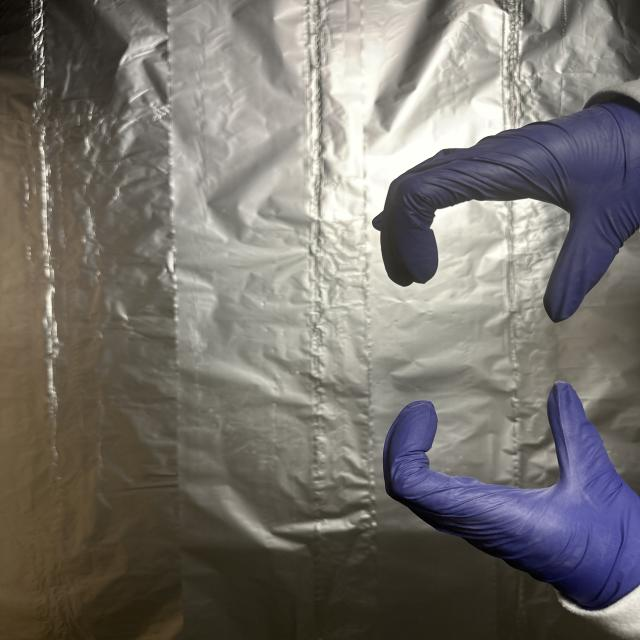gloves_contaminated: (372, 90, 640, 322), (383, 382, 640, 622)
